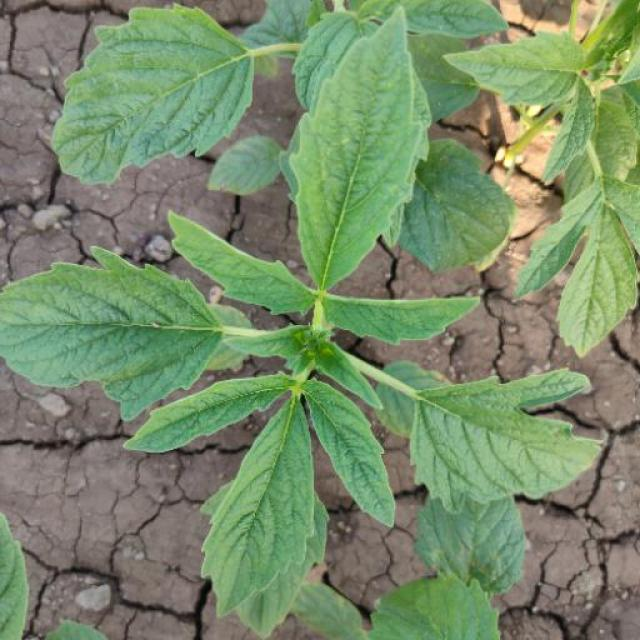weed: (17, 1, 605, 636)
